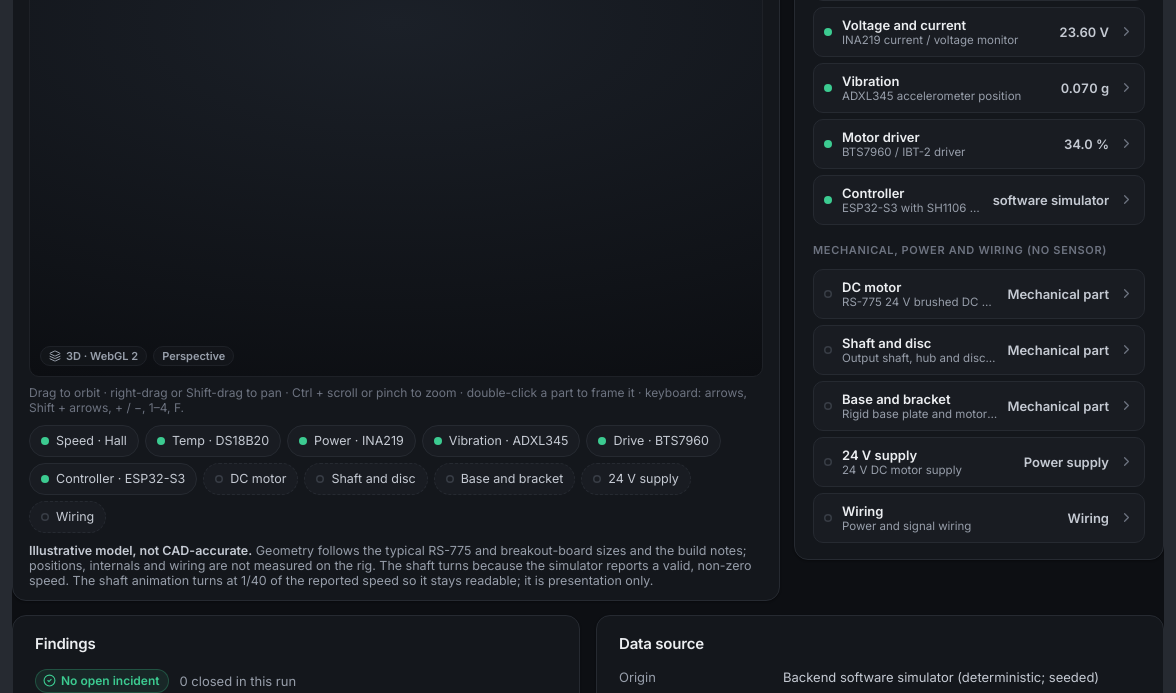
Test case: twin page without WebGL 2 (jsdom) › the evidence for a part is shown in its panel, labelled by kind
(page scrolled)
Click the button with test id "twin-part-shaft" at point(979, 350), box [813, 324, 1145, 374]
(page scrolled)
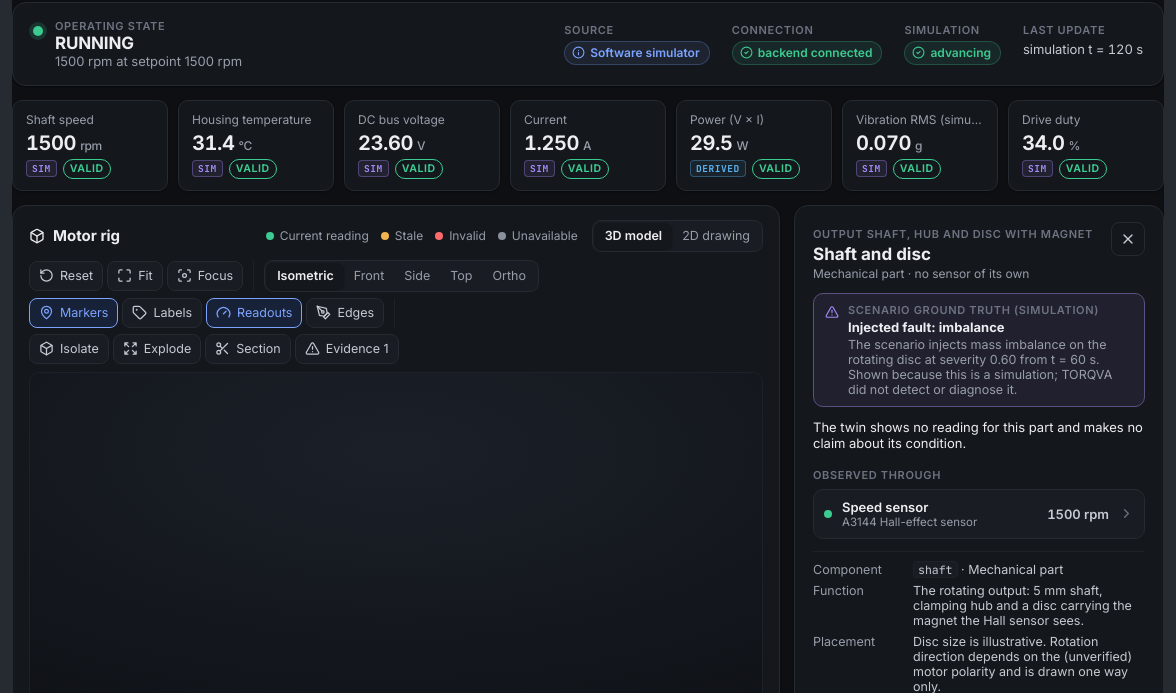
Expected: the list with test id "twin-evidence" shows "Scenario ground truth", [848, 302, 1099, 316]
Expected: the list with test id "twin-evidence" shows "did not detect or diagnose", [848, 336, 1112, 396]
